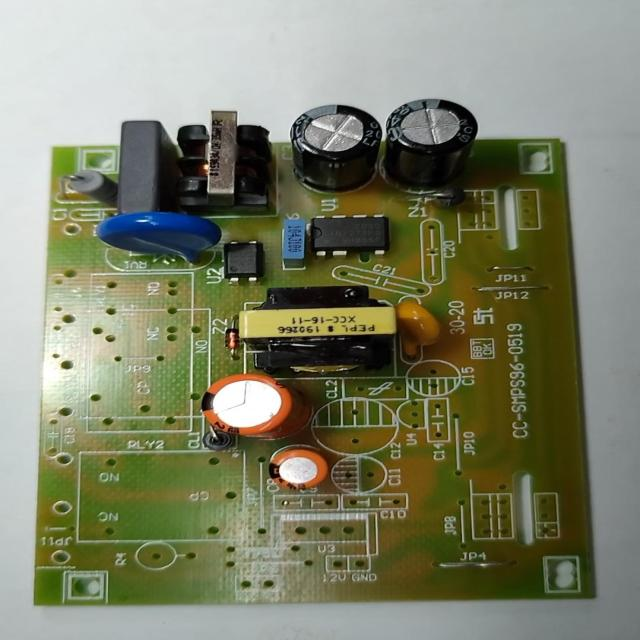Cap1: (200, 373, 298, 438)
Cap2: (268, 449, 327, 491)
Cap3: (287, 104, 382, 192)
Cap4: (382, 97, 479, 189)
MOSFET: (308, 213, 390, 257)
Mov: (96, 213, 222, 265)
Resistor: (64, 168, 124, 207)
Transformer: (234, 284, 398, 373), (166, 105, 270, 215)
